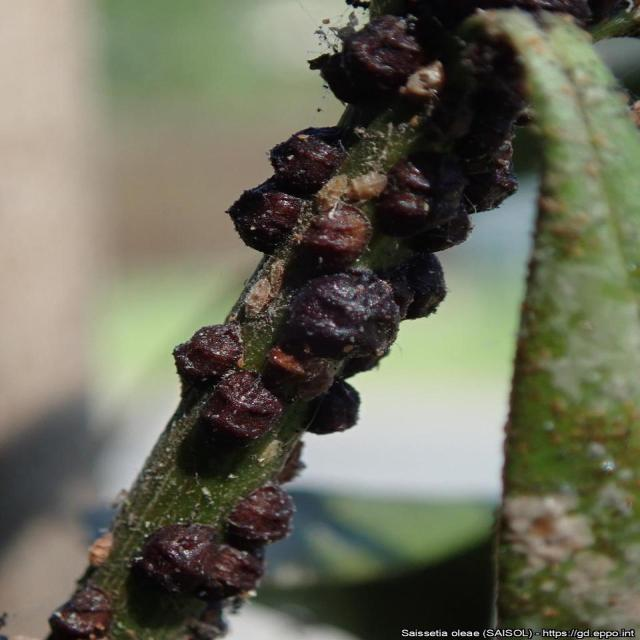Black Scale: (377, 96, 521, 319), (136, 485, 293, 599), (263, 270, 400, 399), (226, 126, 346, 254), (293, 202, 371, 278), (201, 370, 281, 441), (173, 321, 242, 388), (46, 588, 112, 640), (306, 378, 360, 434)
